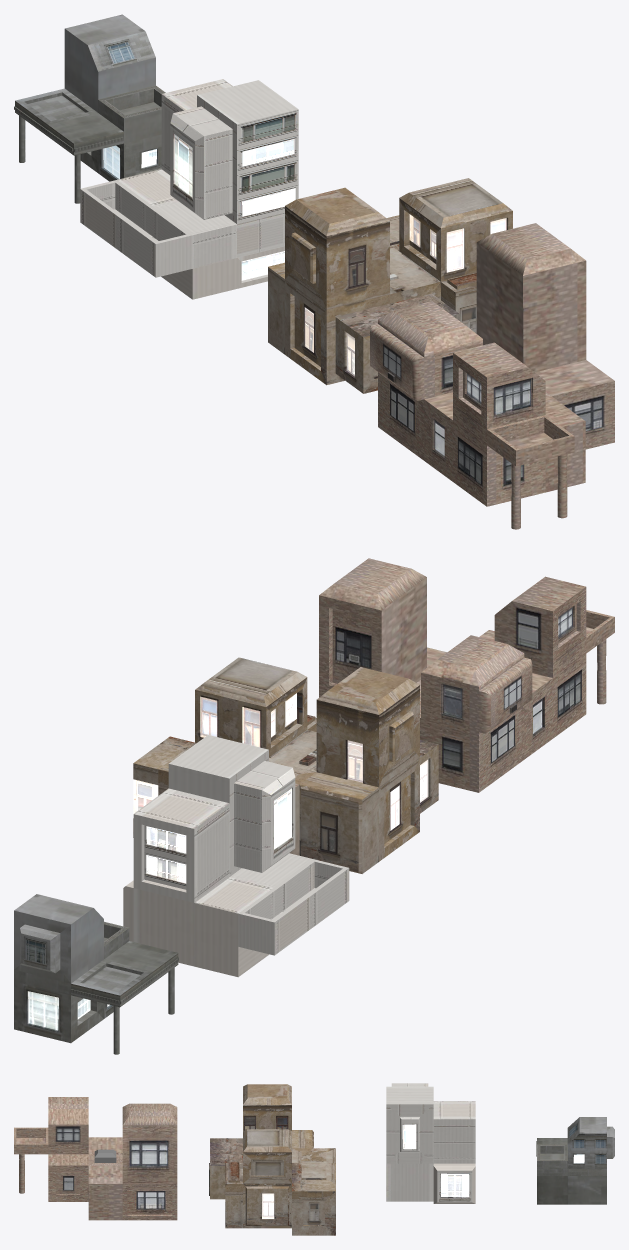
File: cyberpunk_building_pack.glb
3 views of the same model, one above another, from view 1: azimuth 30°, elevation 25°; view 2: azimuth 150°, elevation 25°; view 3: azimuth 270°, elevation 25° (orthographic). The views are drawn at different scales.
Visible parts, largest first — view 1: Residential2_3, Comercial1_1, Residential1_0, Comercial2_2; view 2: Residential2_3, Comercial1_1, Residential1_0, Comercial2_2; view 3: Residential2_3, Residential1_0, Comercial1_1, Comercial2_2.
Boxes of the visible parts, x1,y1,x2,y2 form: Residential2_3: [370, 223, 614, 529]; Comercial1_1: [80, 79, 298, 299]; Residential1_0: [268, 178, 512, 393]; Comercial2_2: [14, 14, 165, 203]; Residential2_3: [319, 558, 614, 792]; Comercial1_1: [123, 735, 349, 977]; Residential1_0: [133, 657, 438, 873]; Comercial2_2: [14, 894, 178, 1054]; Residential2_3: [14, 1097, 177, 1220]; Residential1_0: [209, 1084, 335, 1235]; Comercial1_1: [386, 1083, 475, 1203]; Comercial2_2: [536, 1117, 614, 1204].
Size of the model in its own units: 9.83 by 6.36 by 33.1.
9 materials, 5 textured.
